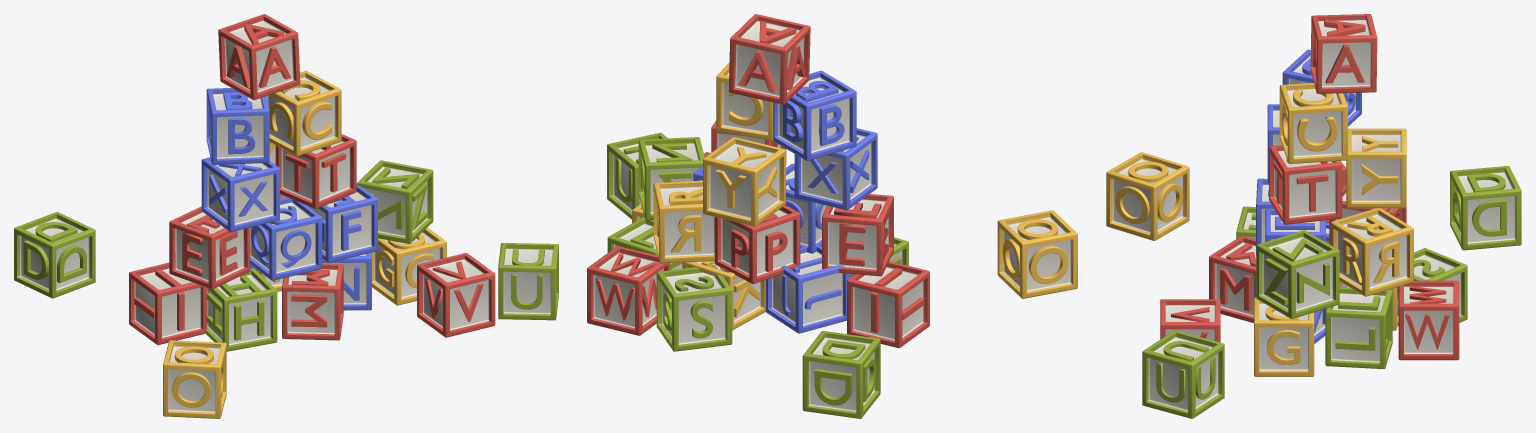
File: abc_cube_toy_n9fAo1W.glb
The picture shows the model from 3 angles, left to right: view 1: azimuth 30°, elevation 25°; view 2: azimuth 150°, elevation 25°; view 3: azimuth 270°, elevation 25°; orthographic projection. The views are drawn at different scales.
Parts seen in each view (by area): view 1: D_4, A_12, V_1, I_5, E_8, X_15, C_2, O_6, H_7, U_0, Q_22, Z_24 (+6 smaller); view 2: Y_19, A_12, O_6, D_4, I_5, S_18, B_3, W_17, J_21, E_8, P_11, X_15 (+8 smaller); view 3: Z_24, O_6, U_0, R_9, D_4, A_12, C_2, W_17, L_25, Y_19, T_13, G_20 (+10 smaller).
Part boxes in pixels (x1,y1,x2,y2): D_4: (14, 212, 95, 298); A_12: (218, 14, 300, 100); V_1: (417, 253, 495, 337); I_5: (129, 262, 207, 345); E_8: (169, 206, 250, 289); X_15: (201, 157, 279, 231); C_2: (266, 70, 341, 156); O_6: (163, 340, 226, 418); H_7: (205, 268, 277, 351); U_0: (498, 243, 558, 320); Q_22: (250, 197, 322, 280); Z_24: (357, 160, 433, 243); Y_19: (703, 137, 785, 226); A_12: (728, 14, 810, 104); O_6: (997, 210, 1077, 298); D_4: (802, 331, 880, 418); I_5: (847, 261, 929, 348); S_18: (656, 265, 732, 351); B_3: (773, 70, 856, 160); W_17: (587, 246, 669, 335); J_21: (765, 245, 849, 333); E_8: (822, 194, 893, 276); P_11: (714, 205, 800, 284); X_15: (794, 128, 877, 210); Z_24: (1256, 230, 1339, 318); O_6: (1106, 152, 1189, 240); U_0: (1142, 330, 1224, 418); R_9: (1330, 208, 1413, 296); D_4: (1450, 166, 1521, 250); A_12: (1310, 14, 1377, 93); C_2: (1279, 83, 1347, 163); W_17: (1398, 280, 1459, 360); L_25: (1325, 287, 1392, 368); Y_19: (1346, 128, 1406, 208); T_13: (1269, 145, 1342, 224); G_20: (1254, 297, 1314, 376).
Size of the model in its own units: 191 by 117 by 157.
